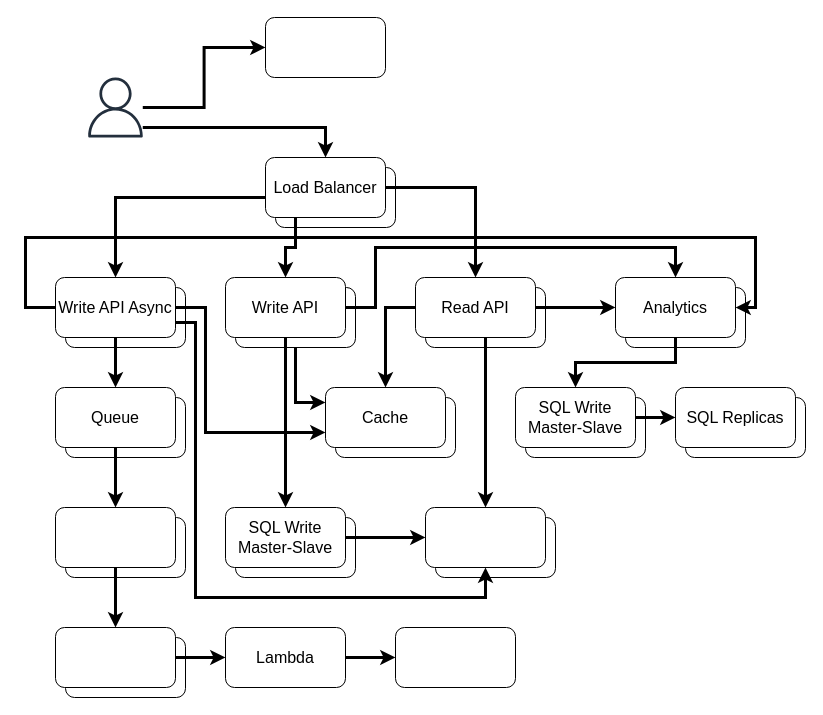
The diagram is 823 pixels wide and 715 high, and some of its shapes have lost their labels. Here are the shapes that lost their labels. From the top down, the centre of each, then its label:
pixel 325 47: DNS
pixel 115 537: PDF Service
pixel 485 537: SQL Read Replicas
pixel 115 657: Storage
pixel 455 657: Email
